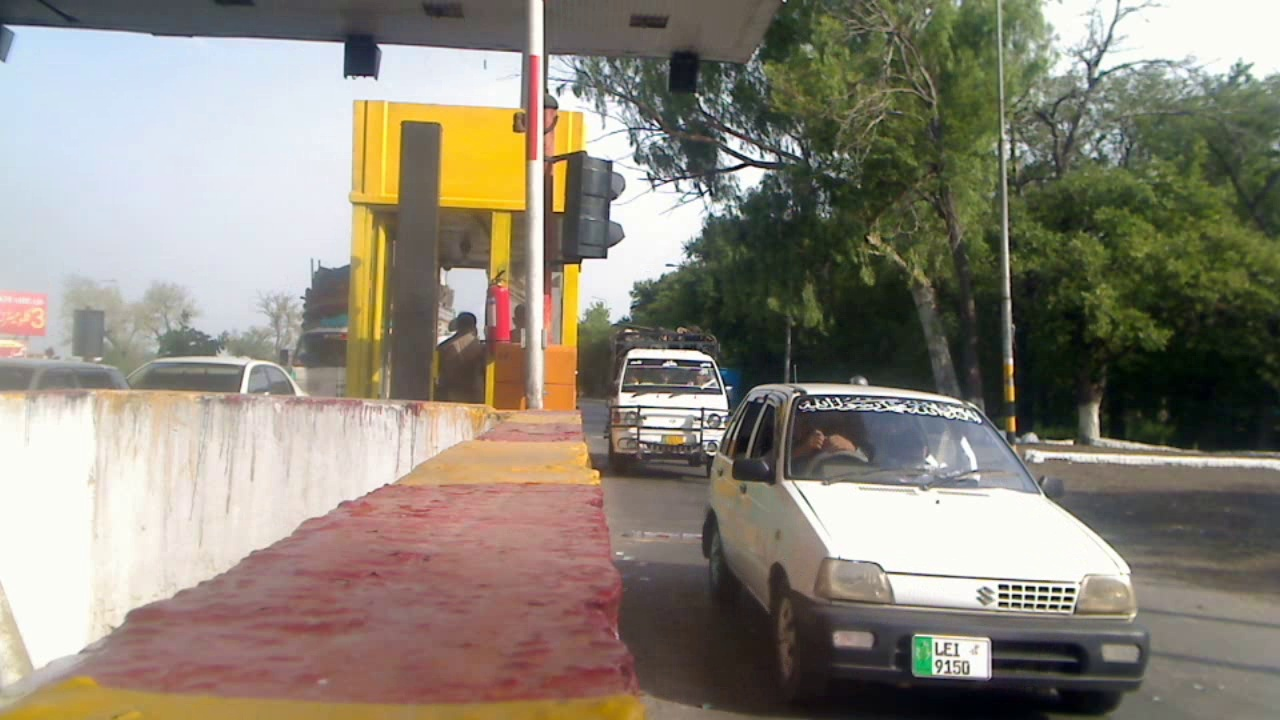Number Plate (Car): (915, 637, 988, 675)
